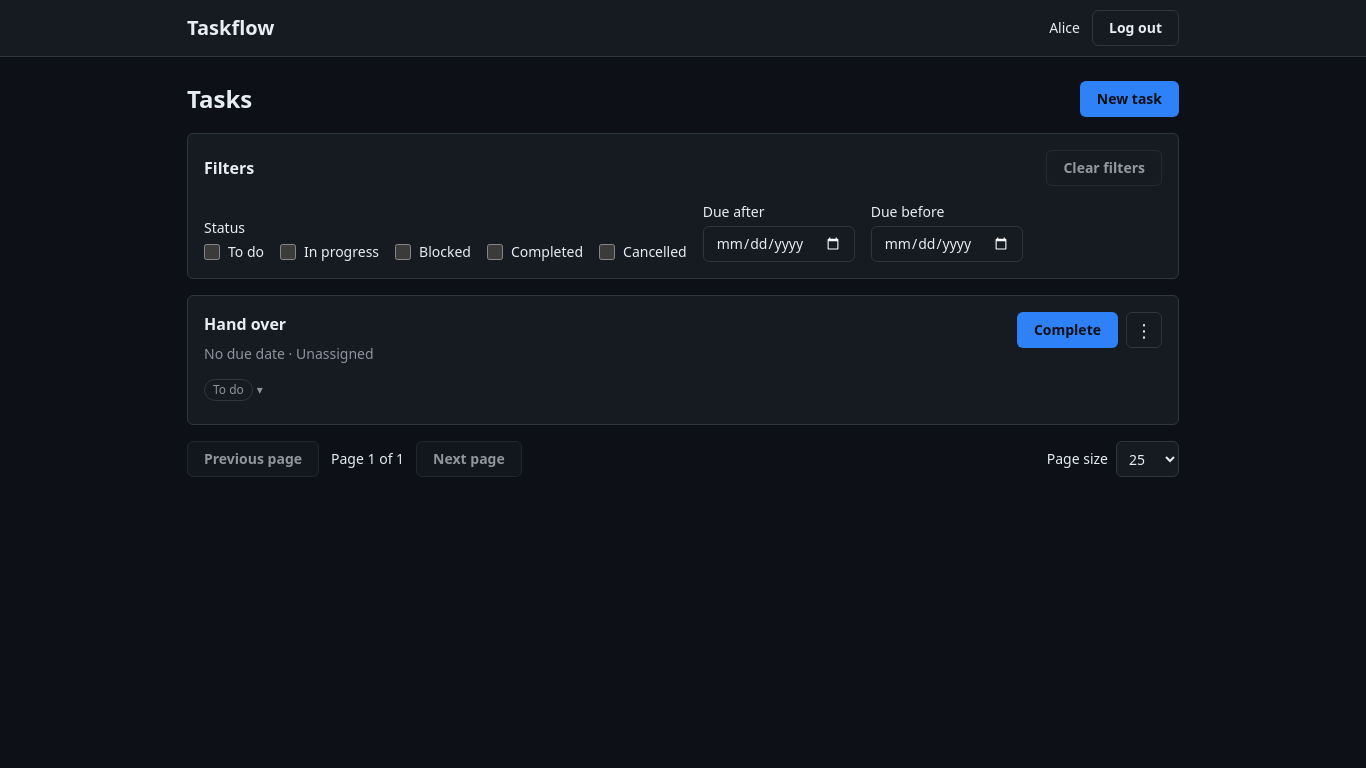
Scenario: task form › test_ac07_reassigning_from_the_edit_form_updates_the_assignee
Click the button named "actions for".
click(1144, 330)  # box [1126,312,1162,348]
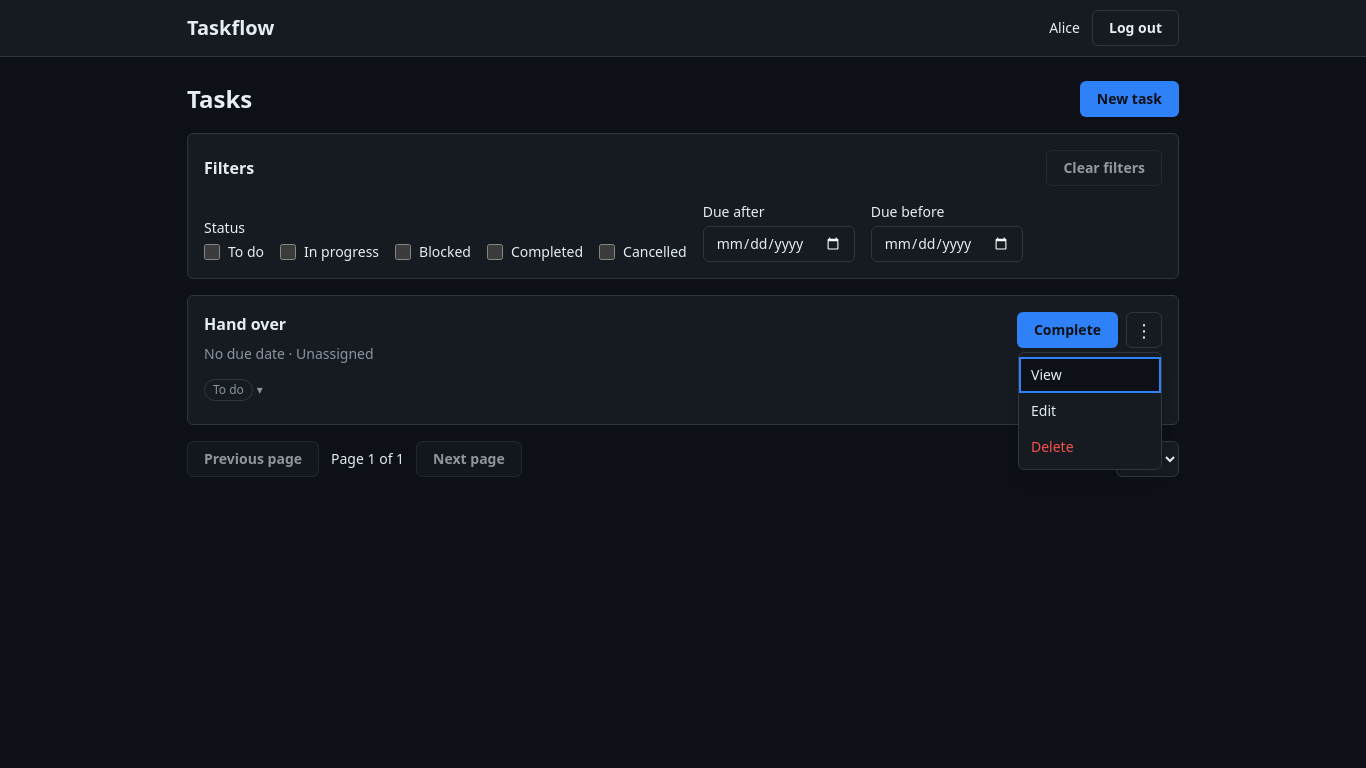
Click the menu item "Edit".
click(1090, 411)  # box [1019,393,1161,429]
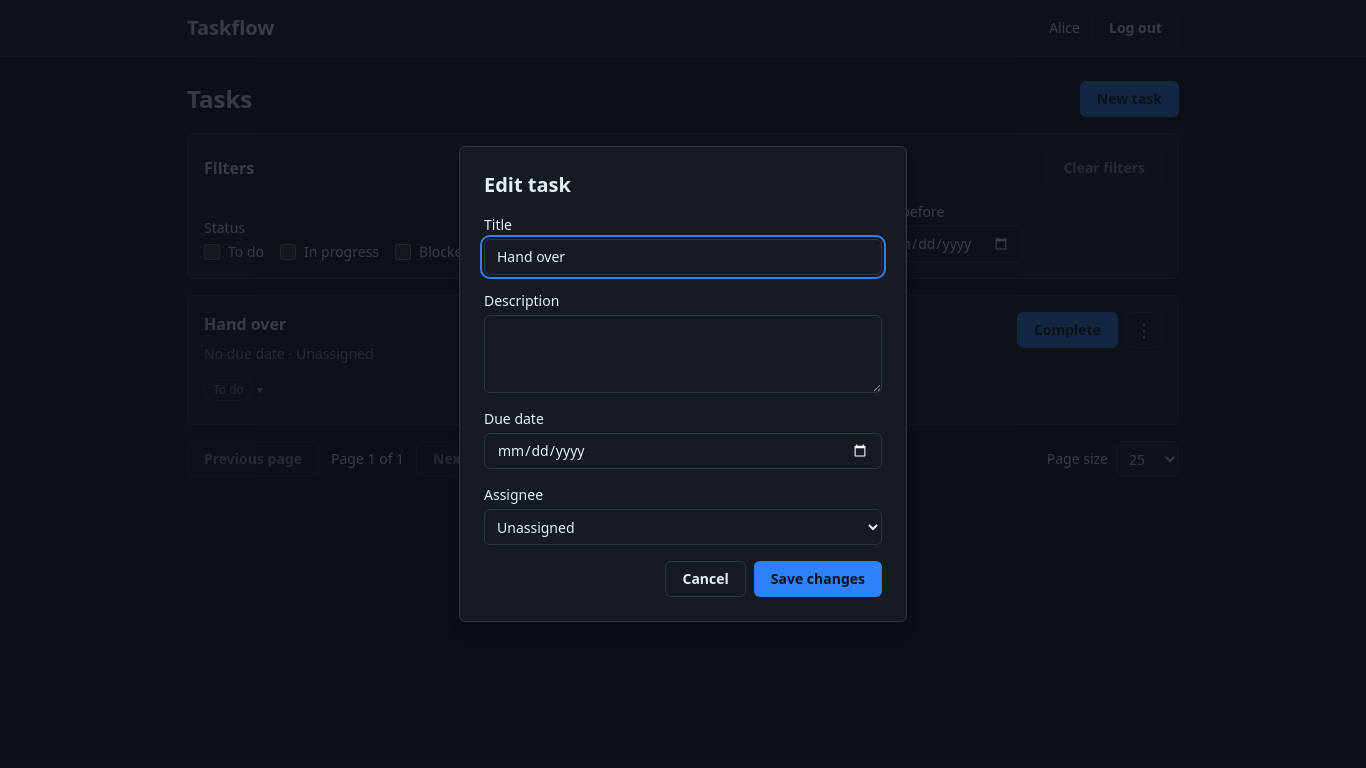
Select "Bob" in the dropdown labelled "Assignee" at (683, 527), box [484,509,882,545]
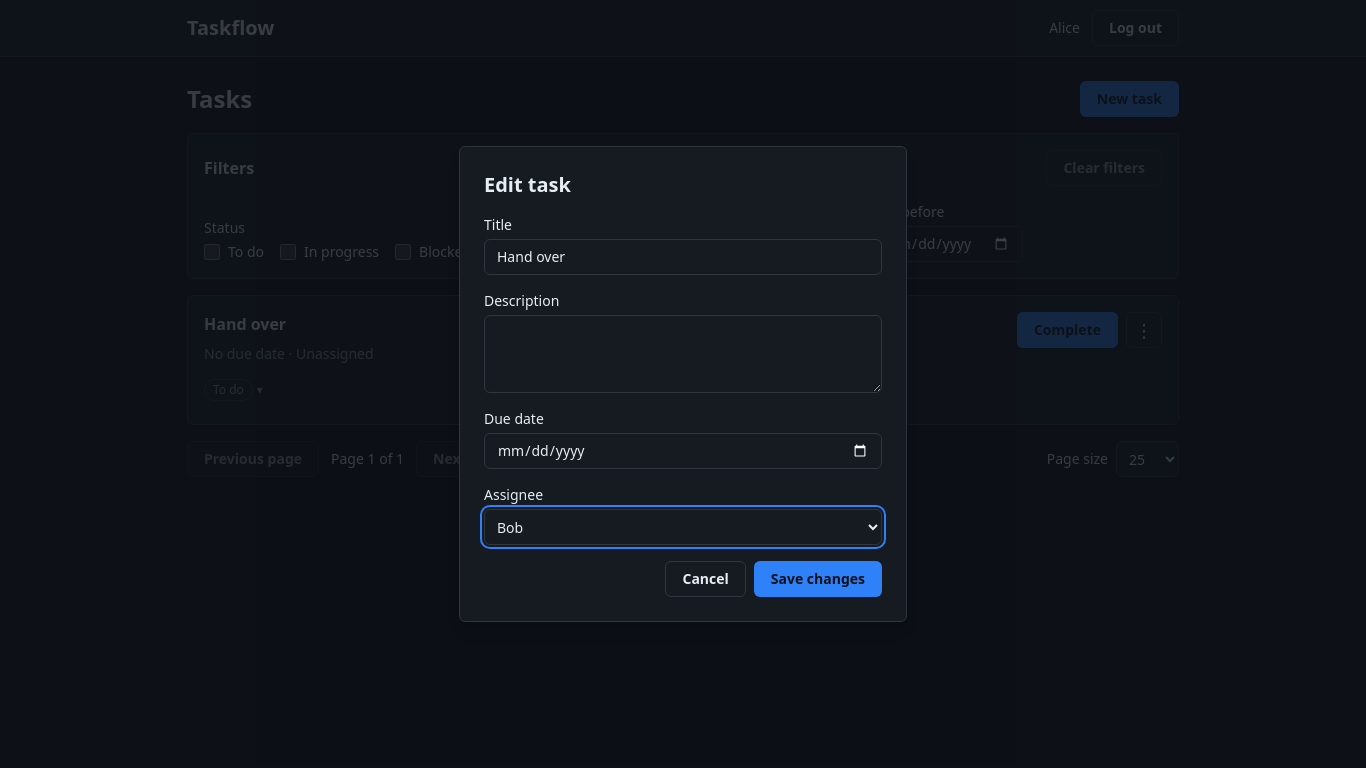
Click the button "Save changes".
click(818, 579)  # box [754,561,882,597]
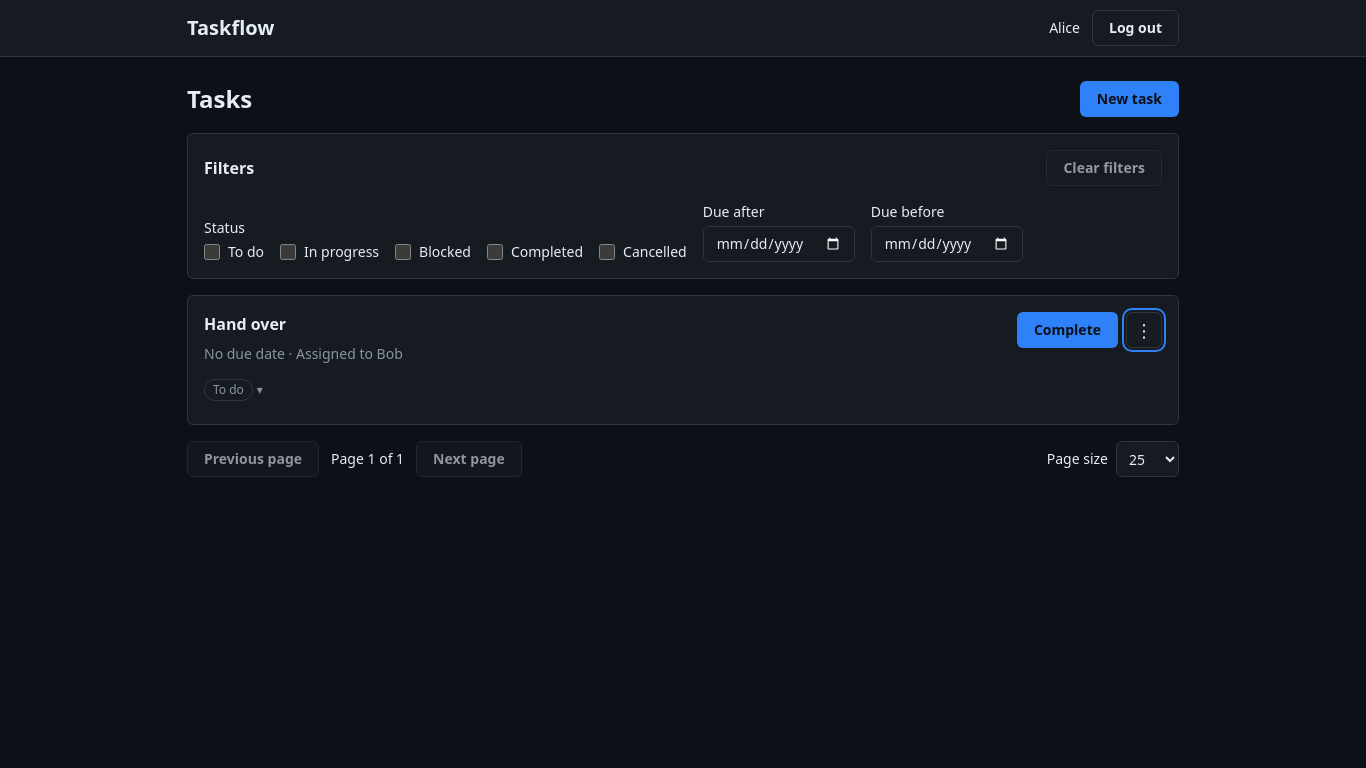
expect the text "No due date · Assigned to Bob" is shown: met, box [204,344,403,363]
